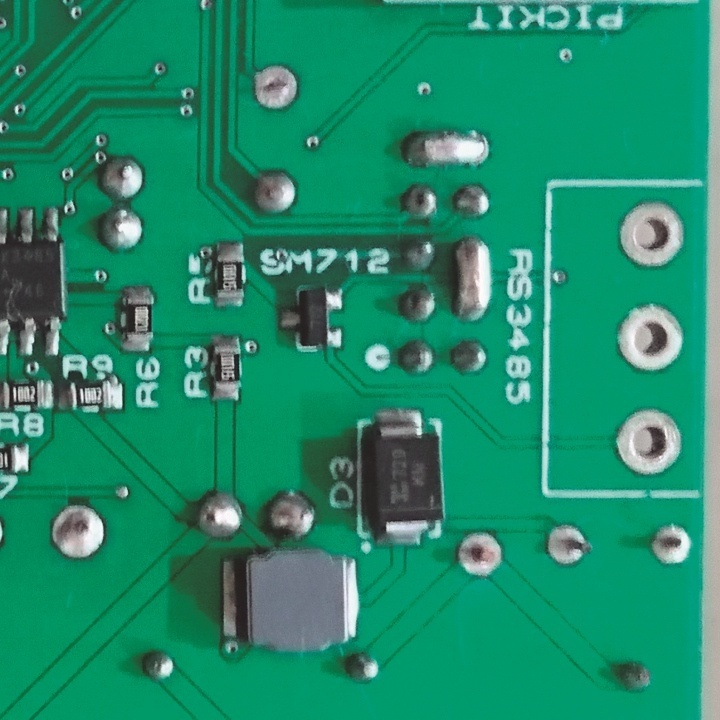F: (616, 197, 689, 273), (612, 405, 683, 483), (616, 300, 687, 376), (48, 500, 108, 558), (248, 62, 302, 115), (456, 529, 509, 579), (541, 521, 590, 569), (648, 522, 694, 573)
P: (449, 235, 495, 324), (399, 128, 491, 171)
